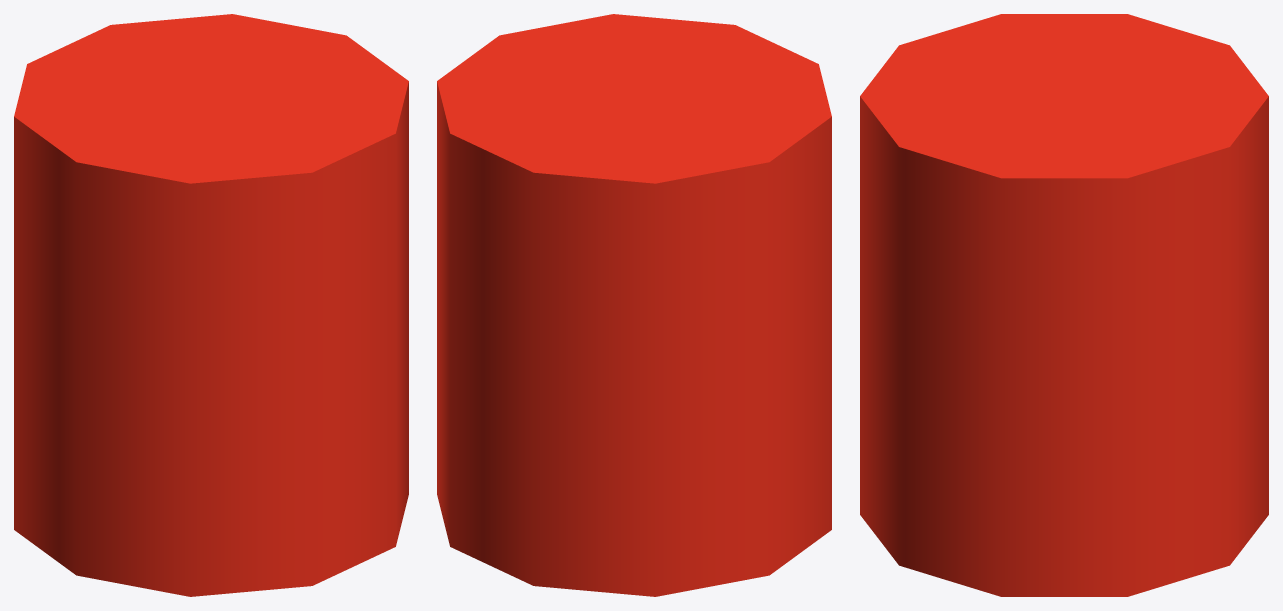
File: decor_tripod_brazier_collision.glb
The picture shows the model from 3 angles, left to right: view 1: azimuth 30°, elevation 25°; view 2: azimuth 150°, elevation 25°; view 3: azimuth 270°, elevation 25°; orthographic projection.
Visible parts, largest first — view 1: decor_tripod_brazier-col; view 2: decor_tripod_brazier-col; view 3: decor_tripod_brazier-col.
Part boxes in pixels (x1,y1,x2,y2): decor_tripod_brazier-col: (14,14,408,596); decor_tripod_brazier-col: (437,14,831,596); decor_tripod_brazier-col: (860,14,1268,596).
Bounding box in the file's own units: 1.03 × 1.22 × 1.08.
